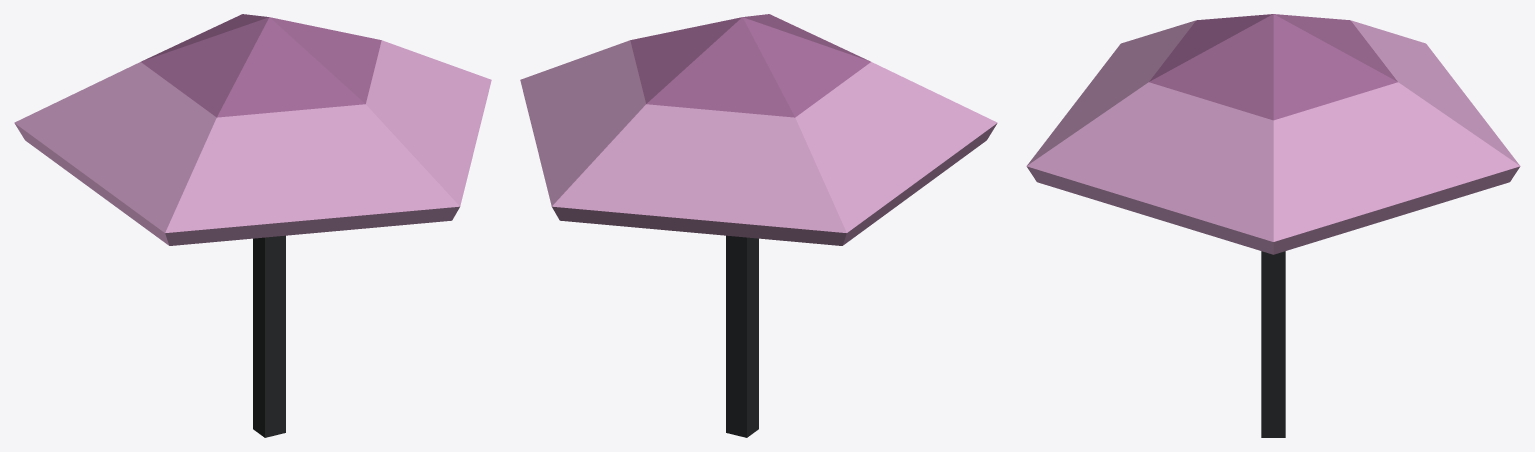
The model's file is SM_Prop_Umbrella_01.obj.
3 views of the same model, side by side, from view 1: azimuth 30°, elevation 25°; view 2: azimuth 150°, elevation 25°; view 3: azimuth 270°, elevation 25° (orthographic).
Visible parts, largest first — view 1: SM_Prop_Umbrella_01_0; view 2: SM_Prop_Umbrella_01_0; view 3: SM_Prop_Umbrella_01_0.
Part boxes in pixels (box(x1,y1,x2,y2)): SM_Prop_Umbrella_01_0: box(14, 14, 491, 437); SM_Prop_Umbrella_01_0: box(520, 14, 997, 437); SM_Prop_Umbrella_01_0: box(1026, 14, 1520, 437).
Bounding box in the file's own units: 0.1626 × 0.1598 × 0.1709.
Materials: 1 (1 with a texture image).
